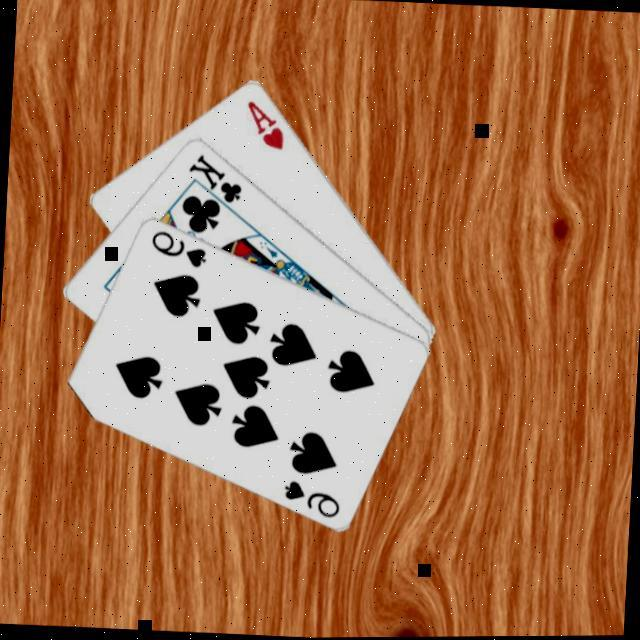9S: (281, 474, 345, 519), (147, 225, 212, 269)
AH: (243, 95, 291, 152)
KC: (184, 148, 248, 216)
